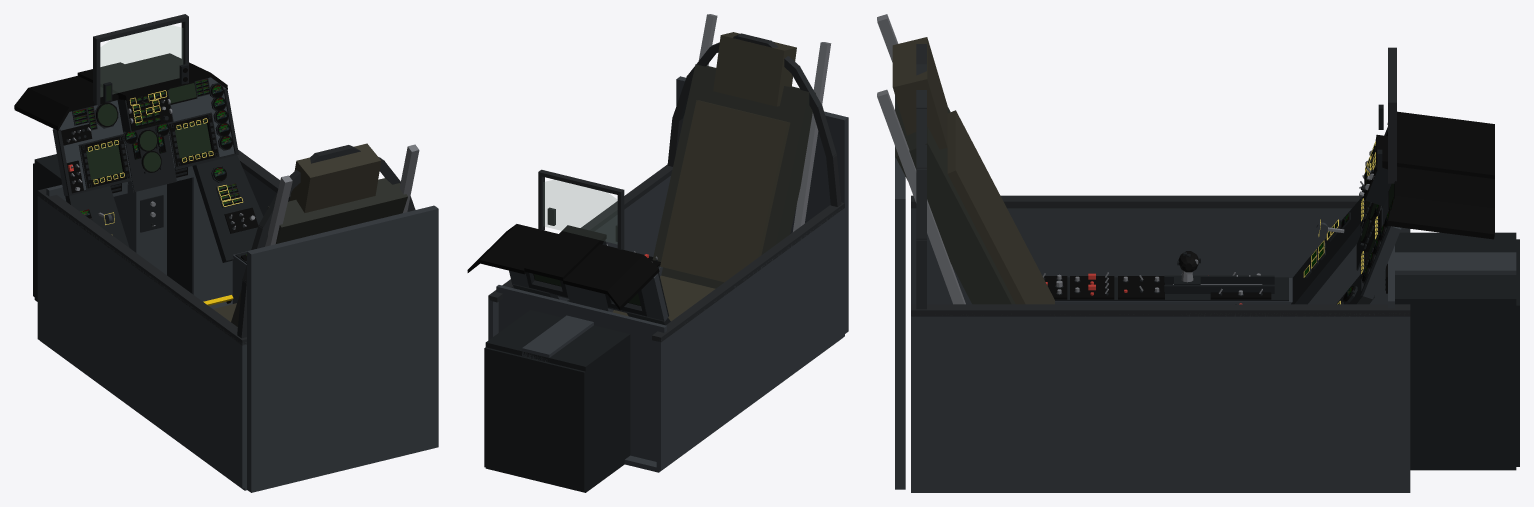
The model's file is cockpit_f16.glb.
3 renders of one model, left to right at view 1: azimuth 30°, elevation 25°; view 2: azimuth 150°, elevation 25°; view 3: azimuth 270°, elevation 25°, orthographic. The views are drawn at different scales.
Parts seen in each view (by area): view 1: panel_grey.005, panel_grey.001, black, hud_glass_69, cushion_97, seat_95, dark.003, frame, panel_grey.010, dark.006, panel_grey.012, dark.001 (+17 smaller); view 2: panel_grey.001, cushion_96, dark.008, black, seat_95, dark.005, cushion_97, panel_grey.009, dark.007, hud_glass_69, panel_grey.005, panel_grey.003 (+16 smaller); view 3: panel_grey.003, panel_grey.001, dark.006, black, cushion_96, frame.001, seat_95, dark.007, frame, cushion_97, panel_grey.005, panel_grey.012 (+16 smaller).
Part boxes in pixels (x1=…): panel_grey.005: x1=247, y1=205, x2=438, y2=492; panel_grey.001: x1=37, y1=194, x2=246, y2=488; black: x1=14, y1=53, x2=227, y2=130; hud_glass_69: x1=100, y1=25, x2=182, y2=96; cushion_97: x1=289, y1=143, x2=381, y2=212; seat_95: x1=231, y1=178, x2=407, y2=326; dark.003: x1=192, y1=155, x2=263, y2=262; frame: x1=37, y1=188, x2=246, y2=345; panel_grey.010: x1=192, y1=171, x2=232, y2=301; dark.006: x1=167, y1=177, x2=191, y2=293; panel_grey.012: x1=113, y1=184, x2=166, y2=274; dark.001: x1=65, y1=186, x2=129, y2=247; panel_grey.001: x1=656, y1=208, x2=844, y2=470; cushion_96: x1=660, y1=100, x2=790, y2=282; dark.008: x1=484, y1=347, x2=586, y2=491; black: x1=467, y1=224, x2=659, y2=310; seat_95: x1=652, y1=64, x2=815, y2=288; dark.005: x1=585, y1=339, x2=630, y2=490; cushion_97: x1=713, y1=32, x2=796, y2=106; panel_grey.009: x1=625, y1=316, x2=666, y2=461; dark.007: x1=485, y1=310, x2=630, y2=371; hud_glass_69: x1=543, y1=180, x2=617, y2=243; panel_grey.005: x1=676, y1=76, x2=848, y2=333; panel_grey.003: x1=488, y1=176, x2=670, y2=340; panel_grey.003: x1=911, y1=313, x2=1410, y2=491; panel_grey.001: x1=911, y1=208, x2=1410, y2=304; dark.006: x1=1410, y1=305, x2=1516, y2=466; black: x1=1375, y1=111, x2=1494, y2=239; cushion_96: x1=947, y1=110, x2=1054, y2=304; frame.001: x1=911, y1=304, x2=1410, y2=316; seat_95: x1=895, y1=97, x2=1015, y2=304; dark.007: x1=1395, y1=232, x2=1516, y2=305; frame: x1=911, y1=195, x2=1360, y2=208; cushion_97: x1=892, y1=37, x2=947, y2=149; panel_grey.005: x1=895, y1=95, x2=905, y2=489; panel_grey.012: x1=1370, y1=252, x2=1516, y2=304.
Size of the model in its own units: 0.76 by 1.19 by 1.8.
27 materials, 6 textured.
